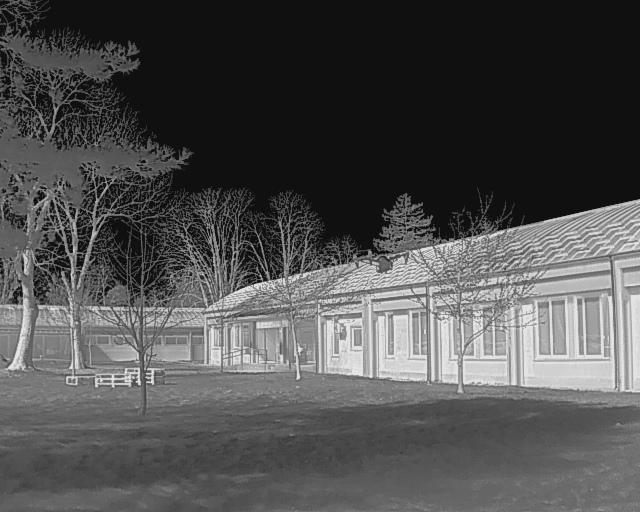drone: (344, 242, 418, 281)
